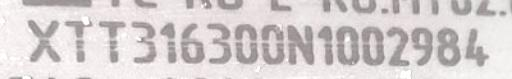letter: (24, 16, 64, 63), (63, 17, 97, 64), (96, 16, 126, 67), (258, 20, 288, 67), (128, 20, 158, 67), (332, 22, 362, 69), (284, 22, 316, 65), (204, 18, 232, 65), (462, 25, 492, 68), (231, 20, 259, 65), (178, 21, 206, 66), (434, 24, 462, 69), (385, 21, 411, 68), (359, 24, 387, 67), (156, 19, 180, 68), (410, 24, 436, 67), (315, 22, 335, 69)
